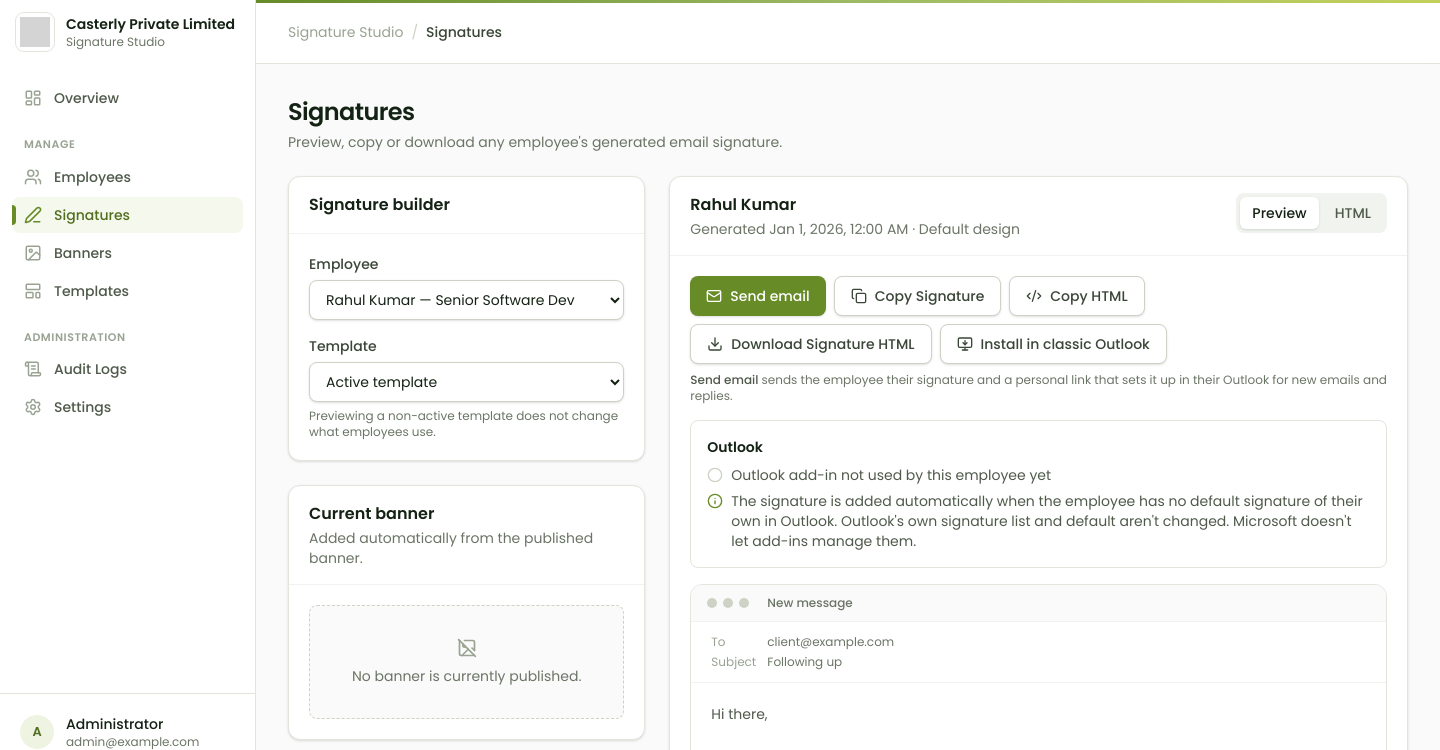
Test: Send email › without automatic sending, shows the ready email to copy and send yourself
Click the button "Send email".
click(758, 296)  # box [690,276,826,316]
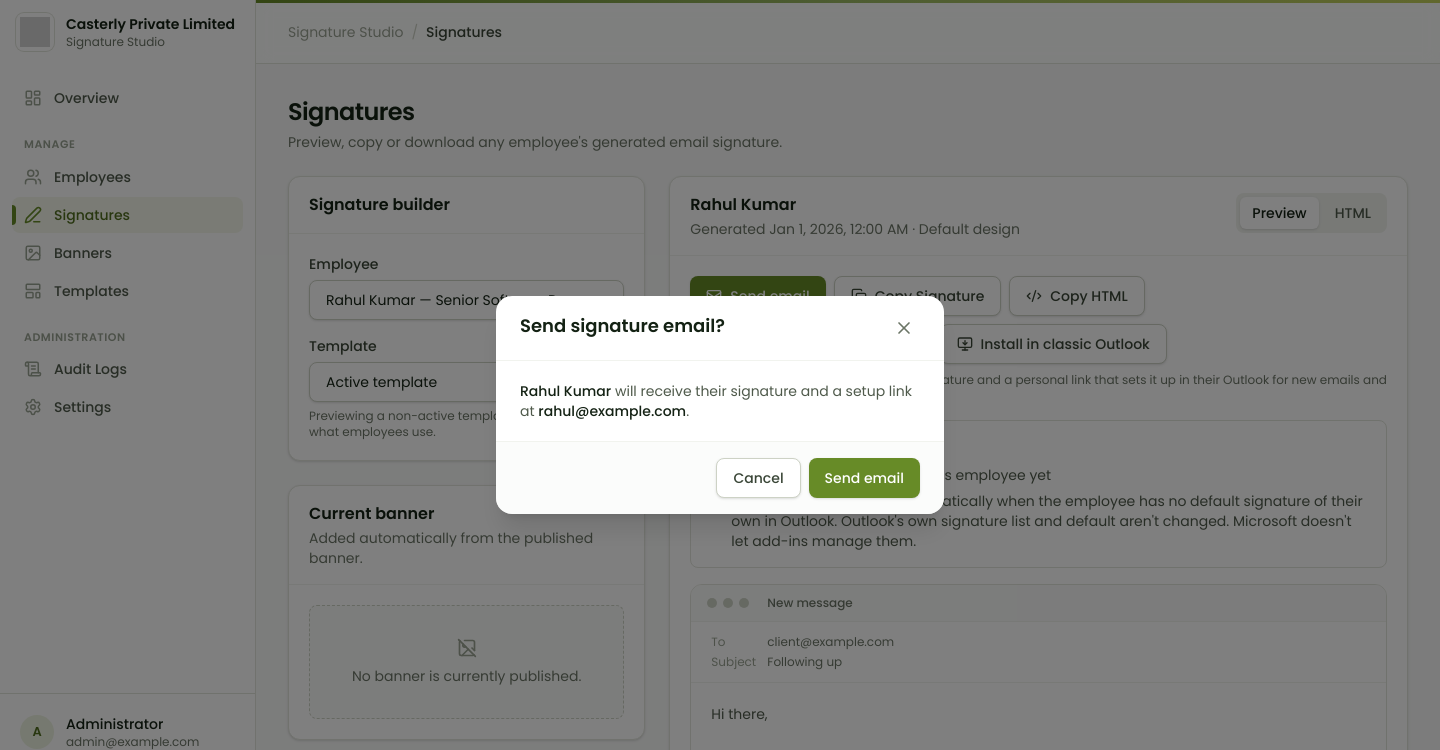
Click the button "Send email".
click(864, 478)  # box [809,458,920,498]
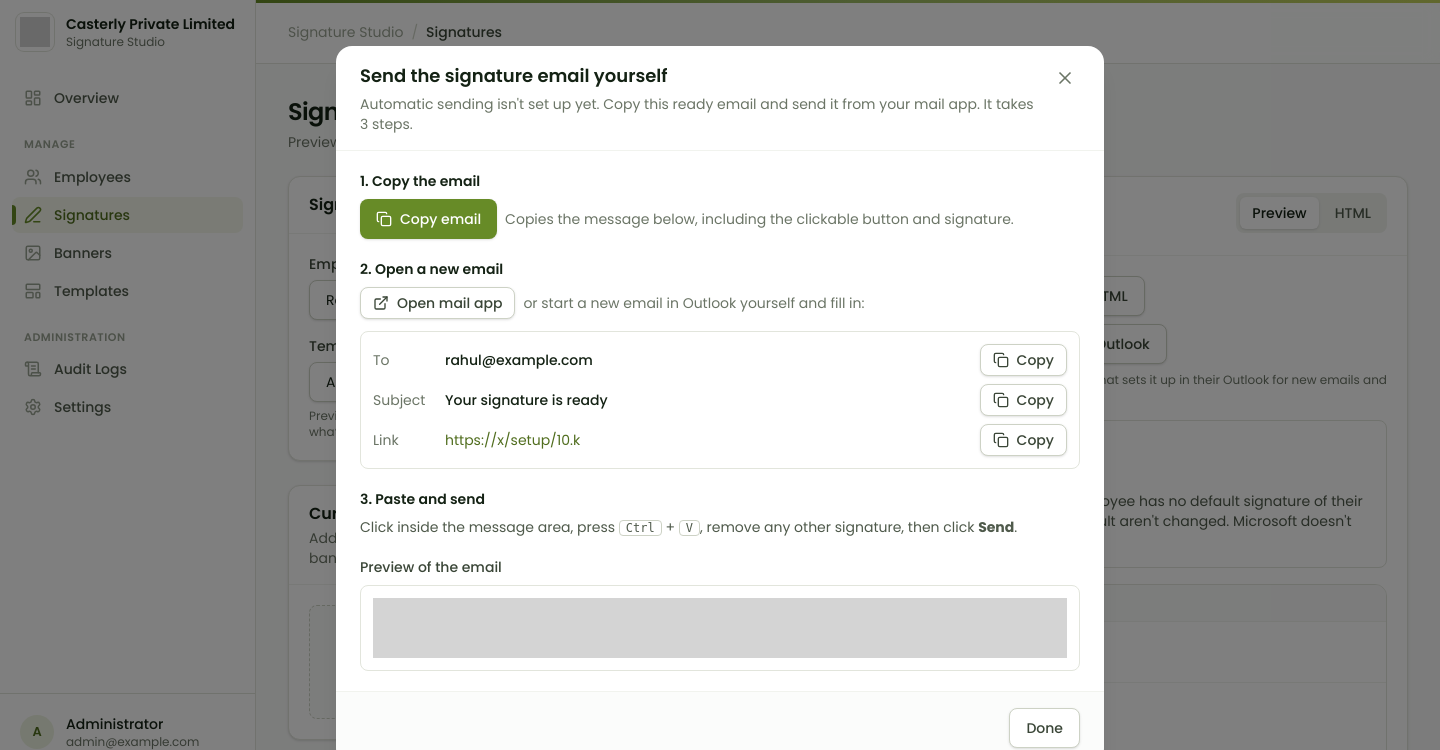
Check: the text "rahul@example.com" is shown, box [445,350,593,370]
Check: the text "Your signature is ready" is shown, box [445,390,608,410]
Click the button "Copy email".
click(429, 219)  # box [360,199,497,239]
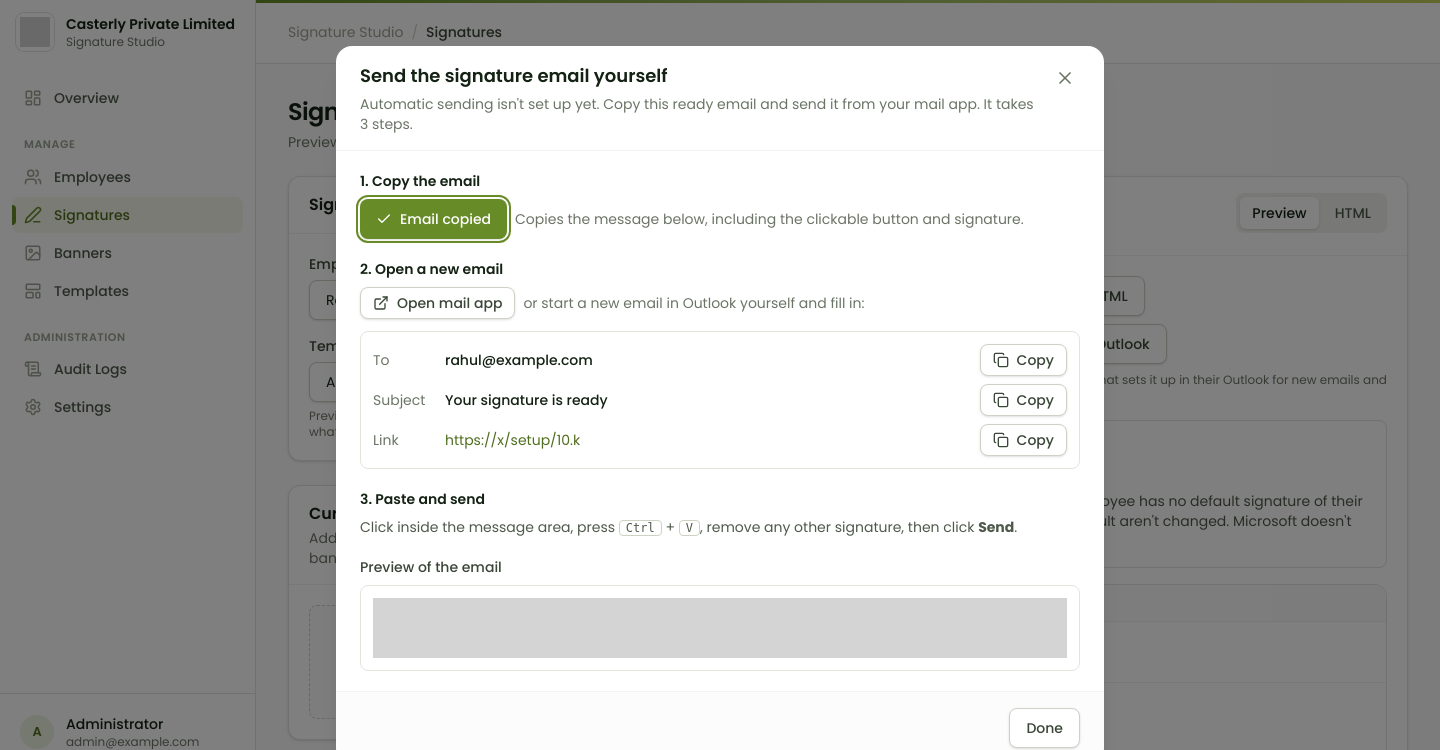
Check: the button "Email copied" is shown, box [360,199,507,239]
